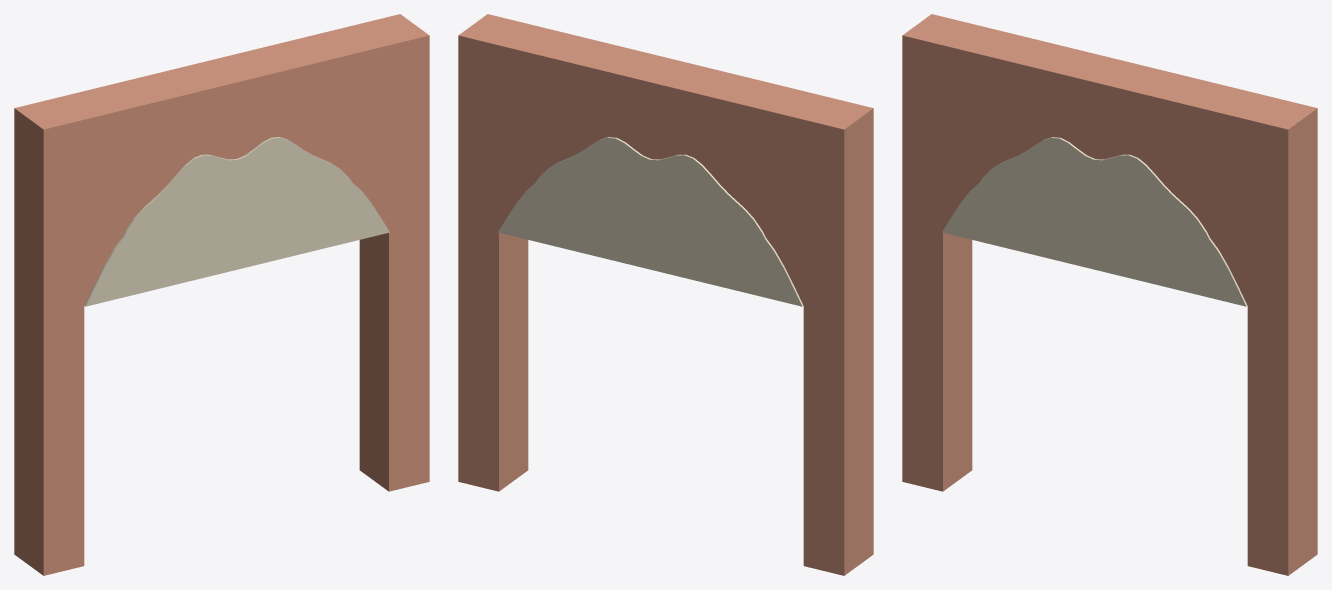
The model's file is kit_door_frame.glb.
The picture shows the model from 3 angles, left to right: view 1: azimuth 30°, elevation 25°; view 2: azimuth 150°, elevation 25°; view 3: azimuth 330°, elevation 25°; orthographic projection.
Visible parts, largest first — view 1: kit_door_frame; view 2: kit_door_frame; view 3: kit_door_frame.
Part boxes in pixels (x1,y1,x2,y2): kit_door_frame: [14, 14, 429, 575]; kit_door_frame: [458, 14, 873, 575]; kit_door_frame: [902, 14, 1317, 575].
Size of the model in its own units: 3.8 by 4.2 by 0.5399.
